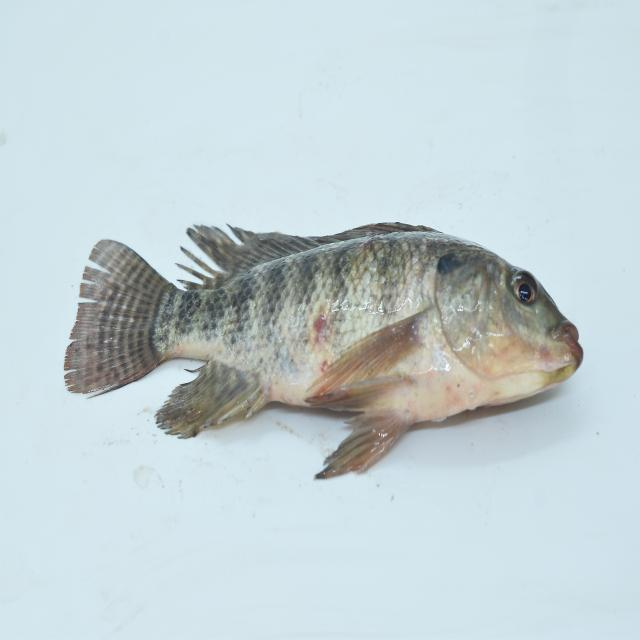Columnaris Disease: (58, 203, 589, 494)
